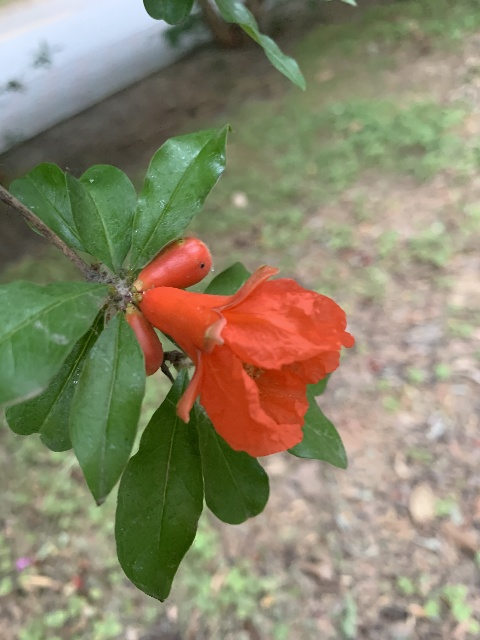bud: (137, 237, 211, 290), (125, 312, 162, 375)
flower: (139, 264, 355, 456)
